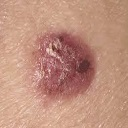Carcinoma: (35, 37, 90, 93)
